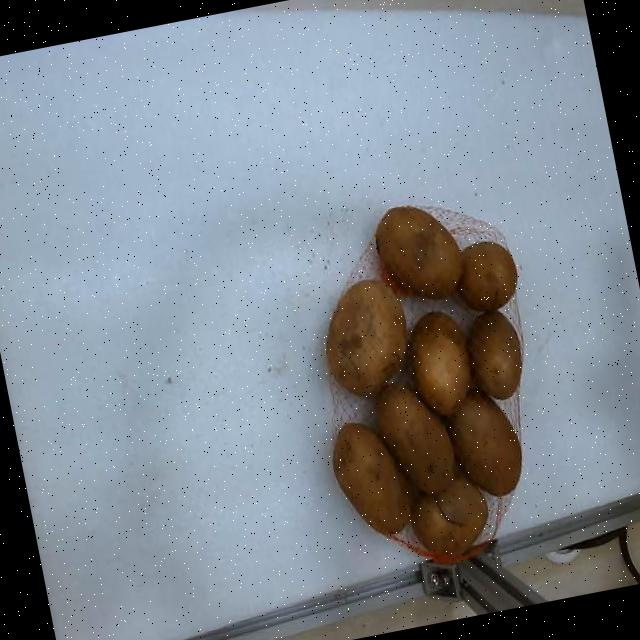potato: (326, 280, 407, 396), (333, 423, 414, 535), (377, 384, 455, 495), (446, 389, 522, 496), (376, 206, 463, 299), (410, 312, 471, 415), (411, 477, 488, 556), (467, 310, 521, 398), (458, 241, 518, 311)
